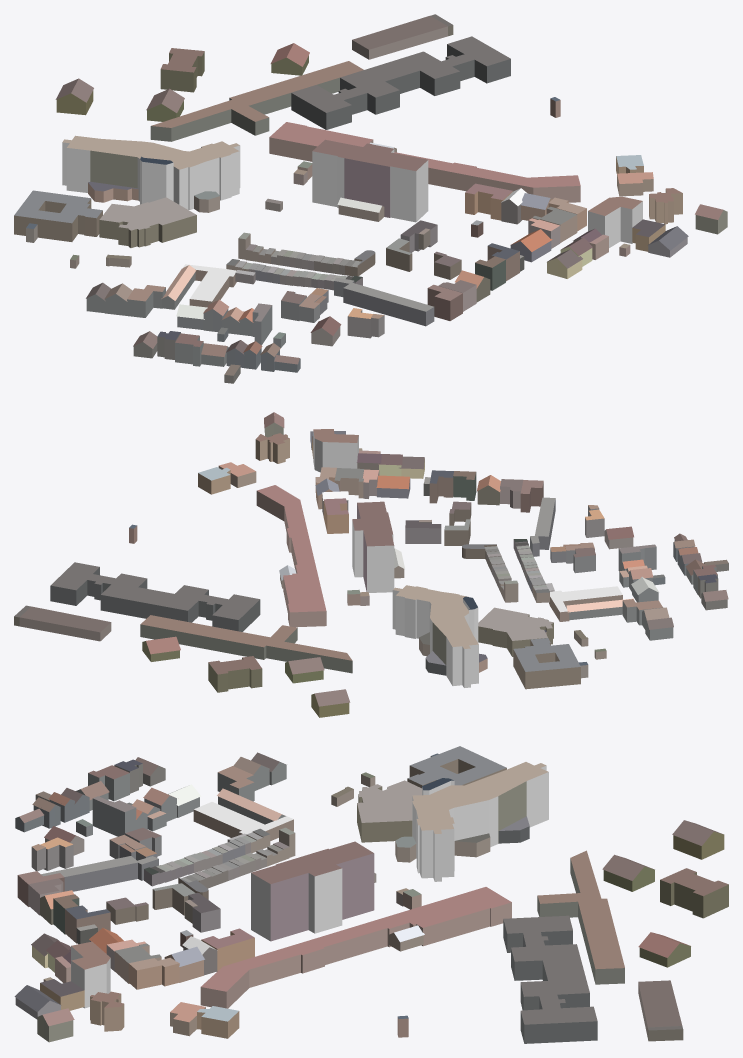
3 renders of one model, top to bottom at view 1: azimuth 30°, elevation 25°; view 2: azimuth 150°, elevation 25°; view 3: azimuth 270°, elevation 25°, orthographic. The views are drawn at different scales.
Parts seen in each view (by area): view 1: tuile; view 2: tuile; view 3: tuile.
Boxes of the visible parts, x1,y1,x2,y2 form: tuile: (14, 14, 727, 383); tuile: (14, 412, 728, 717); tuile: (14, 746, 728, 1043).
Bounding box in the file's own units: 262 × 33.54 × 262.
